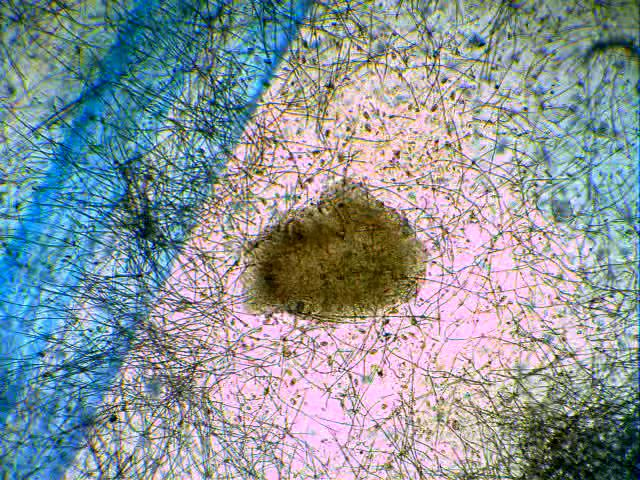Placozoan: (240, 178, 429, 324)
